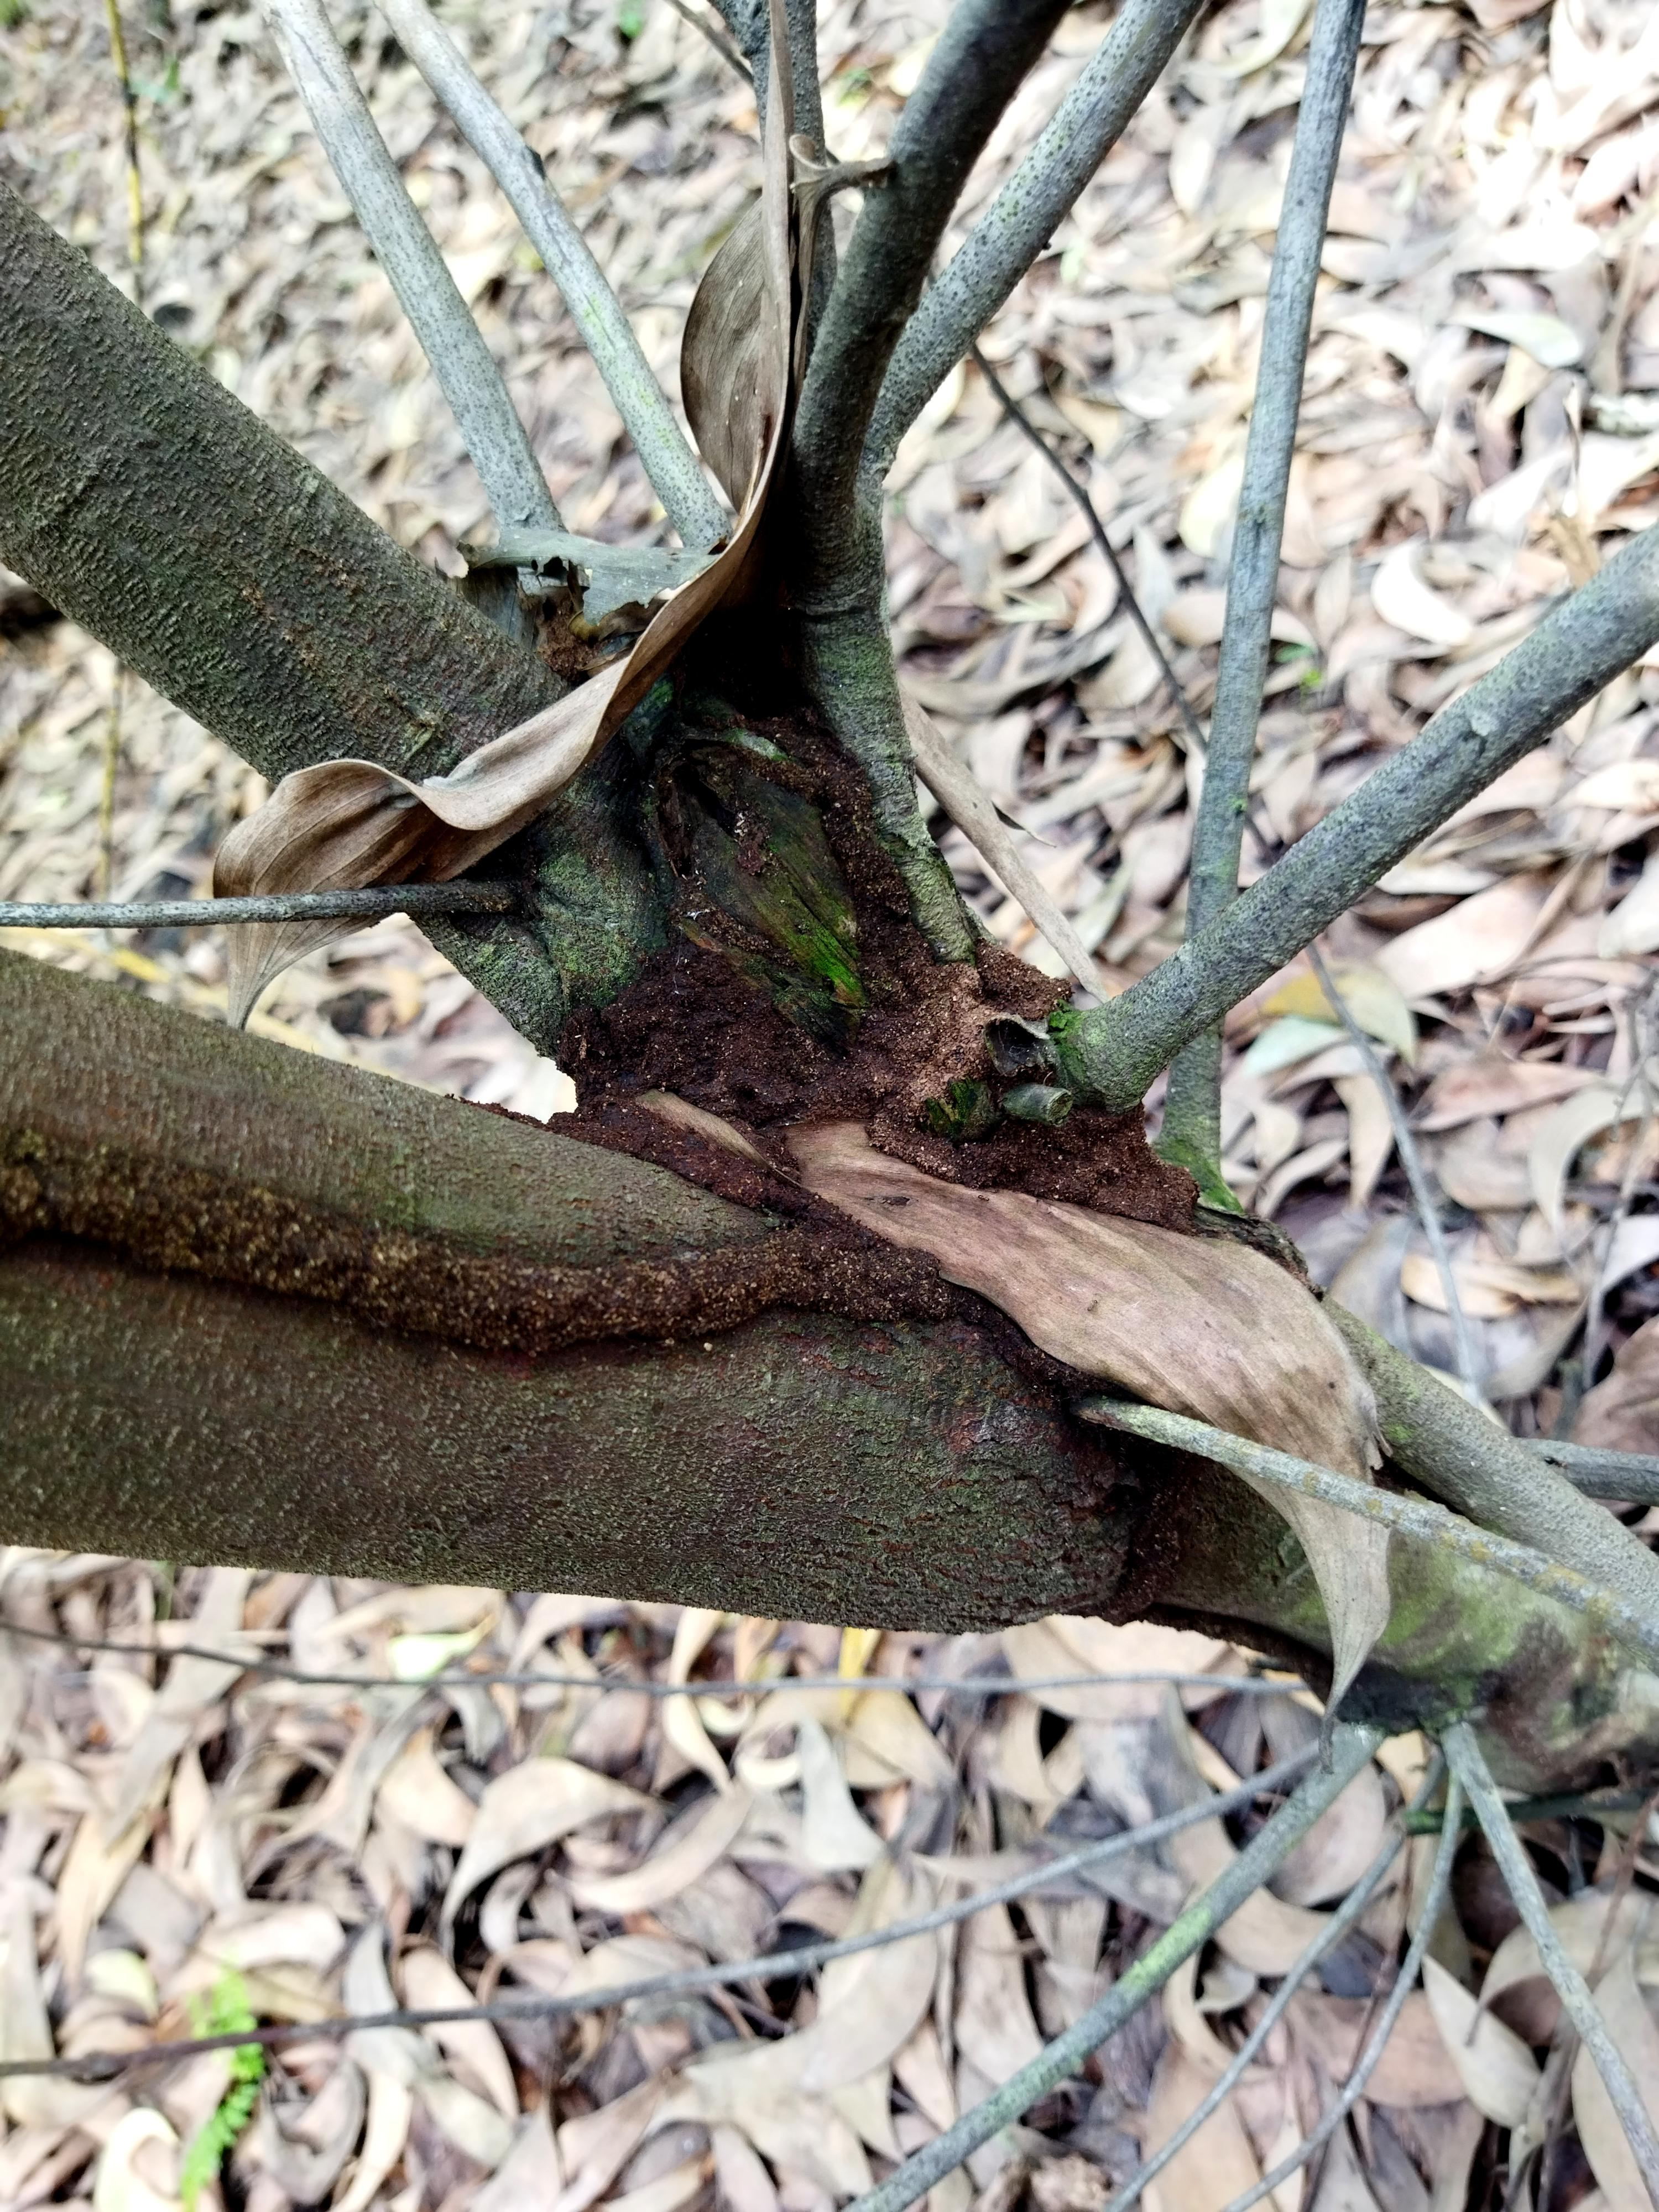Termite - Nest: (0, 1035, 1253, 1430)
